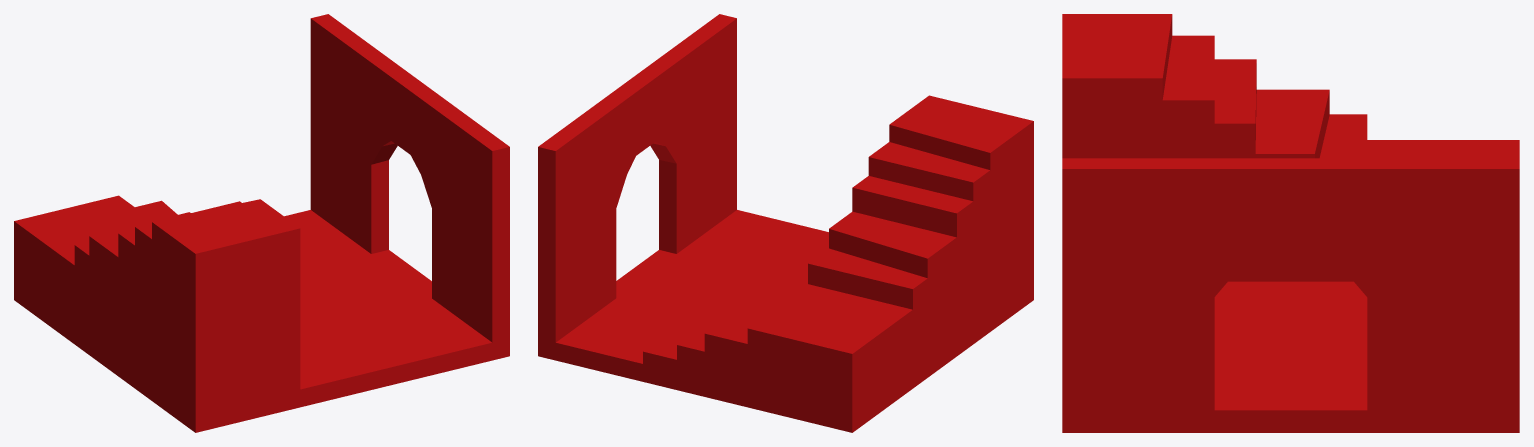
Rendered from testmodel1.obj.
3 renders of one model, left to right at view 1: azimuth 30°, elevation 25°; view 2: azimuth 150°, elevation 25°; view 3: azimuth 270°, elevation 25°, orthographic. The views are drawn at different scales.
Parts seen in each view (by area): view 1: Cube; view 2: Cube; view 3: Cube.
Boxes of the visible parts, x1,y1,x2,y2 form: Cube: [14, 14, 509, 432]; Cube: [538, 14, 1033, 432]; Cube: [1062, 14, 1519, 432].
Size of the model in its own units: 2 by 1.27 by 2.
